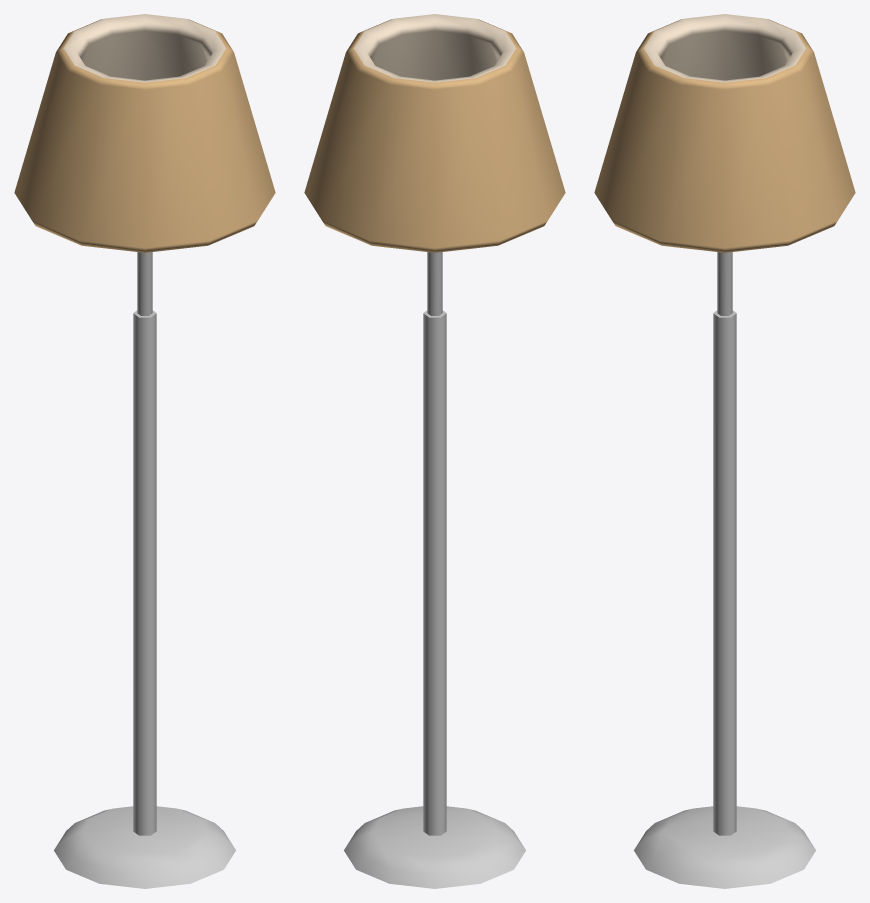
Rendered from lamp_009.fbx.
3 renders of one model, left to right at view 1: azimuth 30°, elevation 25°; view 2: azimuth 150°, elevation 25°; view 3: azimuth 270°, elevation 25°, orthographic.
Parts seen in each view (by area): view 1: lamp_009; view 2: lamp_009; view 3: lamp_009.
Boxes of the visible parts, x1,y1,x2,y2 form: lamp_009: (14,14,275,888); lamp_009: (304,14,565,888); lamp_009: (594,14,855,888).
Bounding box in the file's own units: 53.03 × 53.03 × 180.
